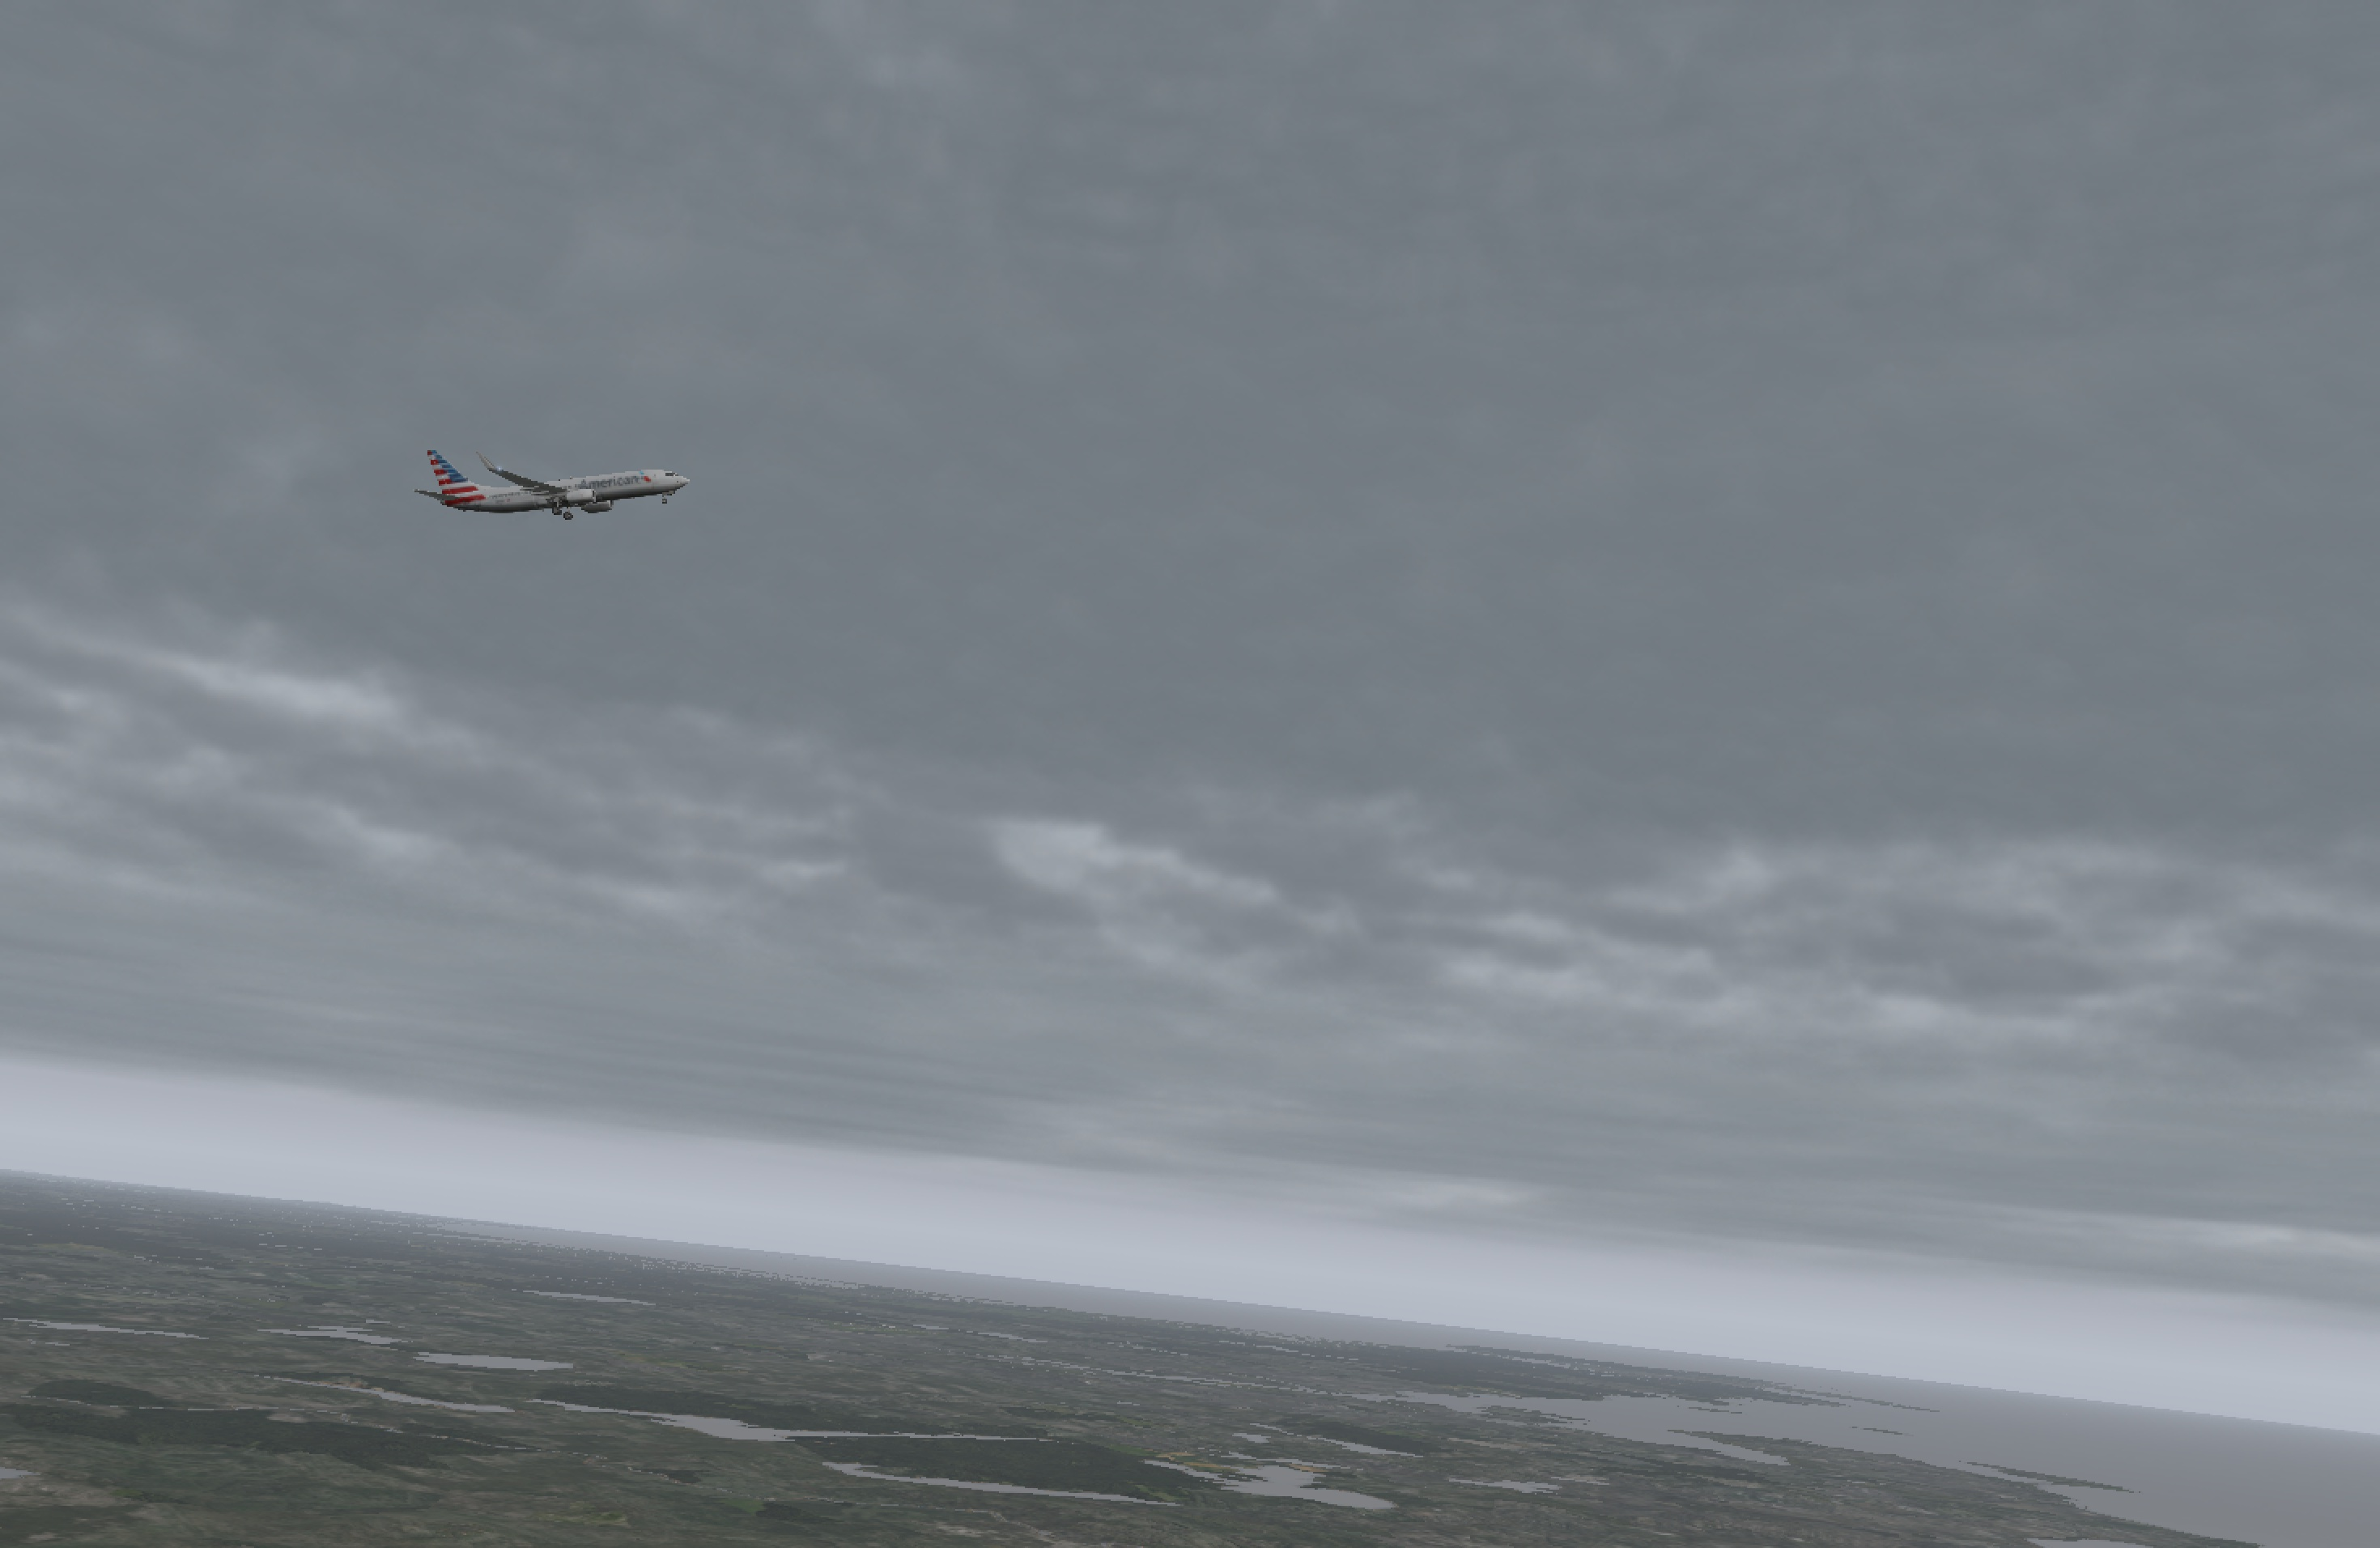aircraft: (448, 451, 692, 543)
